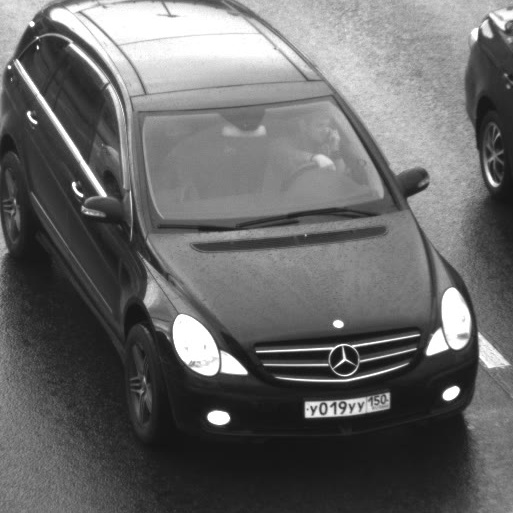plate: (293, 380, 401, 424)
